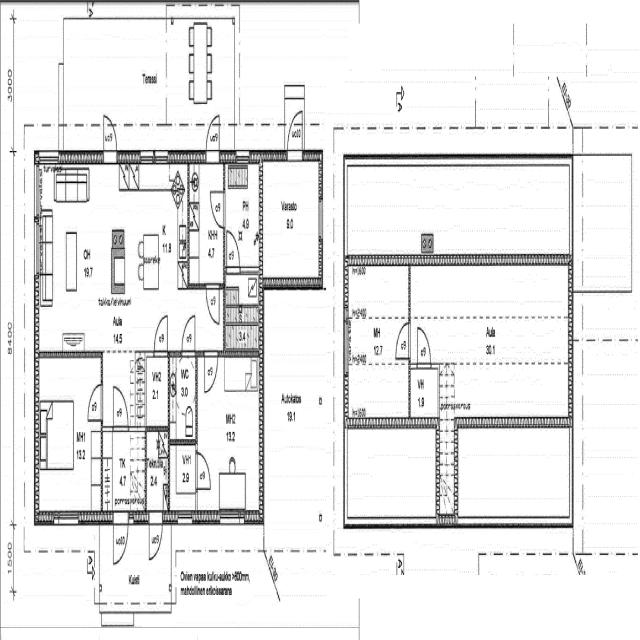door: (224, 162, 262, 272), (286, 107, 305, 162), (101, 110, 118, 166), (204, 112, 223, 162), (112, 516, 129, 568), (147, 516, 165, 565), (112, 383, 129, 433), (86, 378, 104, 424), (153, 311, 170, 358), (224, 225, 241, 272), (206, 280, 221, 329), (180, 312, 197, 354), (209, 188, 226, 230), (195, 448, 212, 490), (204, 350, 219, 394), (417, 325, 432, 368), (395, 319, 410, 362)
window: (54, 508, 81, 531), (218, 506, 242, 526), (316, 192, 324, 244), (176, 509, 194, 529), (236, 148, 250, 166)
zone: (411, 261, 570, 431), (34, 173, 191, 345), (35, 357, 102, 515), (197, 356, 262, 517), (221, 158, 307, 278), (260, 157, 323, 287), (342, 265, 408, 375), (582, 460, 639, 556), (188, 162, 224, 290), (101, 428, 148, 519), (224, 162, 262, 272), (225, 272, 261, 350), (168, 351, 197, 442), (168, 439, 197, 518), (143, 353, 170, 427), (146, 427, 168, 513), (409, 364, 439, 424), (110, 381, 130, 434), (112, 514, 130, 569)
